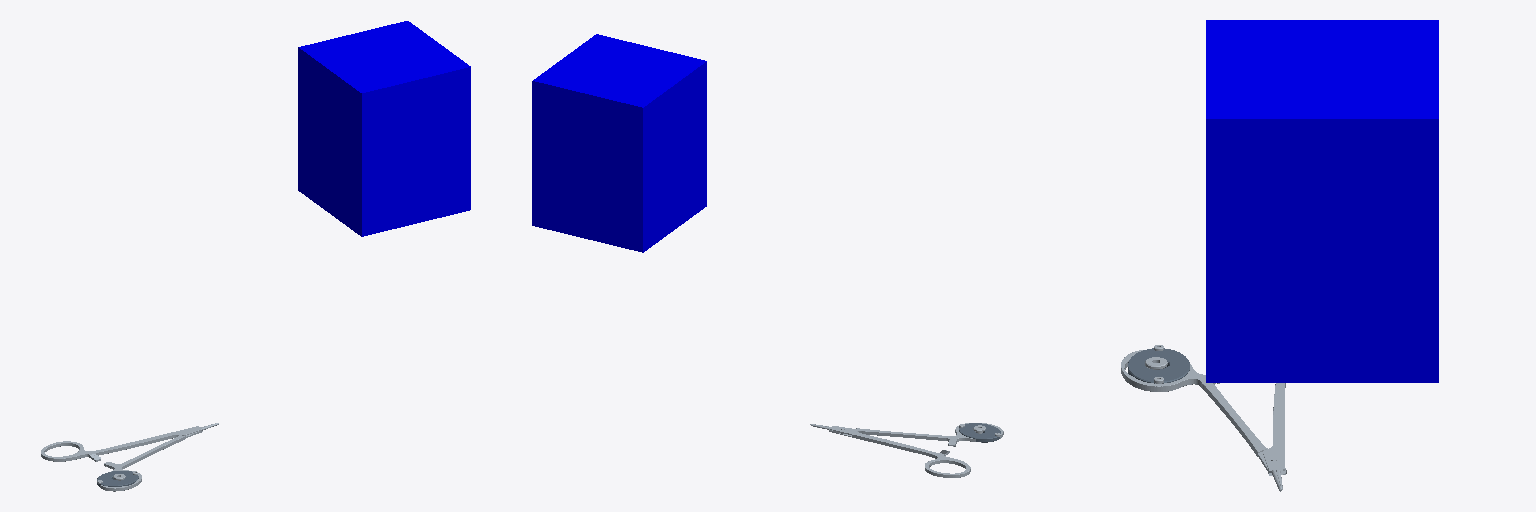
URDF robot description (rhand_needle_holder_robot):
<?xml version='1.0' encoding='utf-8'?>
<robot name="rhand_needle_holder_robot">
  <link name="rhand_surgery_clamp_assy_1">
    <collision>
      <origin xyz="0 0 0" rpy="0 0 0" />
      <geometry>
        <mesh filename="package://detachable_tools/meshes/simready_holder/fixed.stl" />
      </geometry>
    </collision>
    <inertial>
      <origin xyz="-0.004059165 0.0026714 -0.000173157" rpy="0 0 0" />
      <mass value="0.00675555" />
      <inertia ixx="4.67905e-07" ixy="9.59811e-07" ixz="1.28892e-08" iyy="6.25673e-06" iyz="-3.42424e-09" izz="6.71611e-06" />
    </inertial>
    <visual name="simready_holder_fixed">
      <origin xyz="0 0 0" rpy="0 0 0" />
      <geometry>
        <mesh filename="package://detachable_tools/meshes/simready_holder/fixed.obj" />
      </geometry>
      <material name="holder_steel">
        <color rgba=".70 .74 .78 1" />
      </material>
    </visual>
  </link>
  <link name="rhand_surgery_clamp_01_1">
    <collision>
      <origin xyz="0 0 0" rpy="0 0 0" />
      <geometry>
        <mesh filename="package://detachable_tools/meshes/simready_holder/moving.stl" />
      </geometry>
    </collision>
    <inertial>
      <origin xyz="0.042705769 0.022098692 -0.0013036672" rpy="0 0 0" />
      <mass value="0.00562524" />
      <inertia ixx="1.16073e-06" ixy="-1.91324e-06" ixz="-4.08357e-10" iyy="4.55448e-06" iyz="4.80985e-10" izz="5.71081e-06" />
    </inertial>
    <visual name="simready_holder_moving">
      <origin xyz="0 0 0" rpy="0 0 0" />
      <geometry>
        <mesh filename="package://detachable_tools/meshes/simready_holder/moving.obj" />
      </geometry>
      <material name="holder_steel">
        <color rgba=".70 .74 .78 1" />
      </material>
    </visual>
    <visual name="simready_holder_adapter_plate">
      <origin xyz="0 0 0" rpy="0 0 0" />
      <geometry>
        <mesh filename="package://detachable_tools/meshes/simready_holder/plate.obj" />
      </geometry>
      <material name="holder_brushed">
        <color rgba=".42 .48 .54 1" />
      </material>
    </visual>
    <visual name="simready_holder_adapter_screw_left">
      <origin xyz="0.0629 0.0396 0.0004" rpy="0 0 0" />
      <geometry>
        <mesh filename="package://detachable_tools/meshes/simready_holder/screw.obj" />
      </geometry>
      <material name="holder_steel">
        <color rgba=".70 .74 .78 1" />
      </material>
    </visual>
    <visual name="simready_holder_adapter_screw_right">
      <origin xyz="0.0888 0.0396 0.0004" rpy="0 0 0" />
      <geometry>
        <mesh filename="package://detachable_tools/meshes/simready_holder/screw.obj" />
      </geometry>
      <material name="holder_steel">
        <color rgba=".70 .74 .78 1" />
      </material>
    </visual>
  </link>
  <link name="rhand_xl_xc_330_1">
    <visual>
      <origin xyz="0 0 0" rpy="0 0 0" />
      <geometry>
        <mesh filename="package://detachable_tools/meshes/surgenoid_needle_holder/XL_XC_330_1.dae" />
      </geometry>
    </visual>
    <collision>
      <origin xyz="0 0 0" rpy="0 0 0" />
      <geometry>
        <mesh filename="package://detachable_tools/meshes/surgenoid_needle_holder/XL_XC_330_1.stl" />
      </geometry>
    </collision>
    <inertial>
      <origin xyz="7.9738e-05 -0.000522082 0.000156526" rpy="0 0 0" />
      <mass value="0.0168532" />
      <inertia ixx="2.45858e-06" ixy="-2.3451e-14" ixz="4.47712e-14" iyy="1.4262e-06" iyz="-4.7932e-08" izz="2.13119e-06" />
    </inertial>
  </link>
  <link name="rhand_base_link">
    <visual>
      <origin xyz="0 0 0" rpy="0 0 0" />
      <geometry>
        <mesh filename="package://detachable_tools/meshes/surgenoid_needle_holder/screwlock_male_hard_v2_1.dae" />
      </geometry>
    </visual>
    <collision>
      <origin xyz="0 0 0" rpy="0 0 0" />
      <geometry>
        <mesh filename="package://detachable_tools/meshes/surgenoid_needle_holder/screwlock_male_hard_v2_1.stl" />
      </geometry>
    </collision>
    <inertial>
      <origin xyz="1.4366722e-05 -0.00010691039 -0.0024040291" rpy="0 0 0" />
      <mass value="0.0162824" />
      <inertia ixx="1.61417e-06" ixy="3.47268e-09" ixz="-7.7713e-10" iyy="1.62572e-06" iyz="-1.41976e-09" izz="2.52267e-06" />
    </inertial>
  </link>
  <link name="rhand_small_needle_holder_base_1">
    <visual>
      <origin xyz="0 0 0" rpy="0 0 0" />
      <geometry>
        <mesh filename="package://detachable_tools/meshes/surgenoid_needle_holder/small_needle_hoder_base_1.dae" />
      </geometry>
    </visual>
    <collision>
      <origin xyz="0 0 0" rpy="0 0 0" />
      <geometry>
        <mesh filename="package://detachable_tools/meshes/surgenoid_needle_holder/small_needle_hoder_base_1.stl" />
      </geometry>
    </collision>
    <inertial>
      <origin xyz="-0.00120503 0.0003059 -0.000101532" rpy="0 0 0" />
      <mass value="0.020773" />
      <inertia ixx="2.68109e-06" ixy="8.34229e-08" ixz="7.87172e-08" iyy="5.53461e-06" iyz="4.19901e-08" izz="7.91237e-06" />
    </inertial>
  </link>
  <link name="rhand_small_needle_holder_link1_1">
    <visual>
      <origin xyz="0 0 0" rpy="0 0 0" />
      <geometry>
        <mesh filename="package://detachable_tools/meshes/surgenoid_needle_holder/small_needle_holder_link1_1.dae" />
      </geometry>
    </visual>
    <collision>
      <origin xyz="0 0 0" rpy="0 0 0" />
      <geometry>
        <mesh filename="package://detachable_tools/meshes/surgenoid_needle_holder/small_needle_holder_link1_1.stl" />
      </geometry>
    </collision>
    <inertial>
      <origin xyz="0.0067603411 0.010742293 -0.0056220958" rpy="0 0 0" />
      <mass value="0.00332751" />
      <inertia ixx="4.67896e-07" ixy="-2.67743e-07" ixz="2.00383e-08" iyy="2.10944e-07" iyz="3.18413e-08" izz="6.2836e-07" />
    </inertial>
  </link>
  <link name="rhand_small_needle_holder_link2_1">
    <visual>
      <origin xyz="0 0 0" rpy="0 0 0" />
      <geometry>
        <mesh filename="package://detachable_tools/meshes/surgenoid_needle_holder/small_needle_holder_link2_1.dae" />
      </geometry>
    </visual>
    <collision>
      <origin xyz="0 0 0" rpy="0 0 0" />
      <geometry>
        <mesh filename="package://detachable_tools/meshes/surgenoid_needle_holder/small_needle_holder_link2_1.stl" />
      </geometry>
    </collision>
    <inertial>
      <origin xyz="-0.034350012 0.015044146 0.0115" rpy="0 0 0" />
      <mass value="0.00195003" />
      <inertia ixx="1.82933e-07" ixy="3.91066e-07" ixz="-1.45386e-22" iyy="9.04573e-07" iyz="6.36835e-23" izz="1.08458e-06" />
    </inertial>
    <visual name="simready_holder_adapter_pin">
      <origin xyz="-0.0687 0.0300882 0.0115" rpy="0 0 0" />
      <geometry>
        <mesh filename="package://detachable_tools/meshes/simready_holder/pin.obj" />
      </geometry>
      <material name="holder_steel">
        <color rgba=".70 .74 .78 1" />
      </material>
    </visual>
  </link>
  <joint name="rhand_holder_base_to_motor" type="fixed">
    <origin xyz="0.038688034 -0.006248738 0.011774486" rpy="-3.141592607 0 1.5707963" />
    <parent link="rhand_small_needle_holder_base_1" />
    <child link="rhand_xl_xc_330_1" />
    <axis xyz="0 0 -1" />
  </joint>
  <joint name="rhand_holder_base_to_clamp" type="fixed">
    <origin xyz="-0.037277901 0.011289345 -0.004030915" rpy="0 0 -3.0922928" />
    <parent link="rhand_small_needle_holder_base_1" />
    <child link="rhand_surgery_clamp_assy_1" />
    <axis xyz="0 0 -1" />
  </joint>
  <joint name="rhand_holder_screw_to_base" type="fixed">
    <origin xyz="-0.009065668 -0.000168333 -0.015571405" rpy="-6.327e-06 -2.654e-06 3.141589" />
    <parent link="rhand_base_link" />
    <child link="rhand_small_needle_holder_base_1" />
    <axis xyz="0 0 1" />
  </joint>
  <joint name="rhand_holder_jaw_joint" type="revolute">
    <origin xyz="0.040124645 -0.00714826 0.001320943" rpy="0 0 3.0922928" />
    <parent link="rhand_surgery_clamp_assy_1" />
    <child link="rhand_surgery_clamp_01_1" />
    <axis xyz="0 0 -1" />
    <limit lower="-0.29662" upper="0.44772" effort="10" velocity="3.14" />
    <mimic joint="rhand_joint" multiplier="0.581031" offset="0" />
  </joint>
  <joint name="rhand_joint" type="revolute">
    <origin xyz="7.9738e-05 0.006746875 0.013703058" rpy="-3.141592607 0 1.5707963" />
    <parent link="rhand_xl_xc_330_1" />
    <child link="rhand_small_needle_holder_link1_1" />
    <axis xyz="0 0 -1" />
    <limit lower="-12.566" upper="12.566" effort="10" velocity="3.14" />
  </joint>
  <joint name="rhand_holder_tip_joint" type="revolute">
    <origin xyz="0.020772397 0.033007689 -0.017" rpy="0 -0 0" />
    <parent link="rhand_small_needle_holder_link1_1" />
    <child link="rhand_small_needle_holder_link2_1" />
    <axis xyz="0 0 1" />
    <limit lower="-0.84903" upper="0.87973" effort="10" velocity="3.14" />
    <mimic joint="rhand_joint" multiplier="1.35269" offset="0" />
  </joint>
  <link name="rhand_detach_link_0">
    <visual>
      <origin xyz="0.12 0 0.05" rpy="0 0 0" />
      <geometry>
        <box size="0.08 0.08 0.1" />
      </geometry>
      <material name="rhand_detach_link_0_material">
        <color rgba="0 0 1 1" />
      </material>
    </visual>
    <inertial>
      <origin xyz="0 0 0" rpy="0 0 0" />
      <mass value="0.01" />
      <inertia ixx="1e-5" ixy="0" ixz="0" iyy="1e-5" iyz="0" izz="1e-5" />
    </inertial>
  </link>
  <joint name="rhand_detach_joint_0" type="continuous">
    <origin xyz="0.1 0 0.1" rpy="0 0 0" />
    <parent link="rhand_base_link" />
    <child link="rhand_detach_link_0" />
    <axis xyz="0 1 0" />
    <limit effort="2.0" velocity="6.8" />
  </joint>
  <transmission name="rhand_trans">
    <type>transmission_interface/SimpleTransmission</type>
    <joint name="rhand_joint">
      <hardwareInterface>hardware_interface/PositionJointInterface</hardwareInterface>
      <hardwareInterface>hardware_interface/EffortJointInterface</hardwareInterface>
      <offset>0.0</offset>
    </joint>
    <actuator name="rhand_motor">
      <mechanicalReduction>1.0</mechanicalReduction>
    </actuator>
  </transmission>
  <transmission name="rhand_detach_0_trans">
    <type>transmission_interface/SimpleTransmission</type>
    <joint name="rhand_detach_joint_0">
      <hardwareInterface>hardware_interface/PositionJointInterface</hardwareInterface>
      <hardwareInterface>hardware_interface/EffortJointInterface</hardwareInterface>
      <offset>0.0</offset>
    </joint>
    <actuator name="rhand_detach_motor_0">
      <mechanicalReduction>1.0</mechanicalReduction>
    </actuator>
  </transmission>
  <!-- Dynamixel motor (ros2_control, dynamixel_hardware_interface) -->
  <ros2_control name="rhand_needle_holder" type="system">
    <hardware>
      <plugin>dynamixel_hardware_interface/DynamixelHardware</plugin>
      <param name="port_name">/dev/rhand</param>
      <param name="baud_rate">57600</param>
      <param name="number_of_joints">1</param>
      <param name="number_of_transmissions">1</param>
      <param name="dynamixel_model_folder">/param/dxl_model</param>
      <param name="disable_torque_at_init">true</param>
      <param name="error_timeout_ms">1000</param>
      <param name="dynamixel_state_pub_msg_name">needle_holder/dxl_state</param>
      <param name="get_dynamixel_data_srv_name">needle_holder/get_dxl_data</param>
      <param name="set_dynamixel_data_srv_name">needle_holder/set_dxl_data</param>
      <param name="reboot_dxl_srv_name">needle_holder/reboot_dxl</param>
      <param name="set_dxl_torque_srv_name">needle_holder/set_dxl_torque</param>
      <param name="protocol_version">2.0</param>
      <param name="initialize_communication_on_configure">true</param>
    </hardware>
    <gpio name="rhand_motor">
      <param name="ID">5</param>
      <param name="type">dxl</param>
      <param name="Return Delay Time">0</param>
      <param name="Operating Mode">5</param>
      <param name="Torque Enable">1</param>
      <param name="[unit info]">Present Current,0.00115,N m,signed,0.0;Goal Current,0.00115,N m,signed,0.0</param>
      <command_interface name="Goal Position" />
      <command_interface name="Goal Current" />
      <state_interface name="Present Position" />
      <state_interface name="Present Velocity" />
      <state_interface name="Present Current" />
    </gpio>
    <joint name="rhand_joint">
      <command_interface name="position" />
      <command_interface name="effort" />
      <state_interface name="position" />
      <state_interface name="velocity" />
      <state_interface name="effort" />
      <state_interface name="hardware_state" />
      <state_interface name="torque_enable" />
    </joint>
  </ros2_control>
</robot>

--- Facts derived from the render (not from the file) ---
The picture shows the robot from 3 angles, left to right: view 1: azimuth 30°, elevation 25°; view 2: azimuth 150°, elevation 25°; view 3: azimuth 270°, elevation 25°; orthographic projection.
Model rhand_needle_holder_robot with 8 links and 7 joints (3 revolute, 1 continuous, 3 fixed), rooted at rhand_base_link, posed all joints at 0.
Links seen in each view (by area): view 1: rhand_detach_link_0, rhand_surgery_clamp_assy_1, rhand_surgery_clamp_01_1; view 2: rhand_detach_link_0, rhand_surgery_clamp_01_1, rhand_surgery_clamp_assy_1; view 3: rhand_detach_link_0, rhand_surgery_clamp_01_1, rhand_surgery_clamp_assy_1.
Link boxes in pixels (<box>): rhand_detach_link_0: <box>298,21,470,236</box>; rhand_surgery_clamp_assy_1: <box>41,423,218,461</box>; rhand_surgery_clamp_01_1: <box>97,424,211,491</box>; rhand_detach_link_0: <box>532,34,706,252</box>; rhand_surgery_clamp_01_1: <box>811,423,1003,446</box>; rhand_surgery_clamp_assy_1: <box>810,424,970,477</box>; rhand_detach_link_0: <box>1206,20,1438,382</box>; rhand_surgery_clamp_01_1: <box>1121,345,1286,491</box>; rhand_surgery_clamp_assy_1: <box>1263,383,1285,490</box>.
Size in the robot's own frame: 0.2905 by 0.1093 by 0.225 metres.
Meshes: 10 distinct files referenced, 6 mesh visuals loaded (5 OBJ); not drawn: 5 (reference not matched to a file when rendering).
